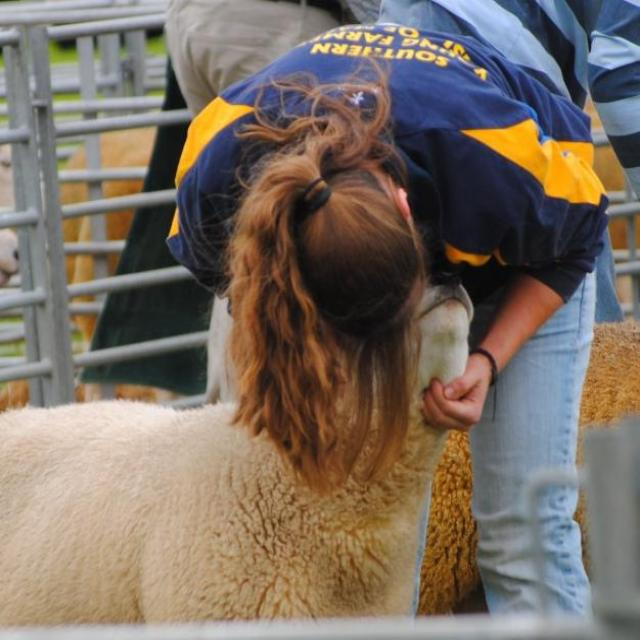Sheep: (1, 277, 473, 629), (62, 124, 167, 348)
